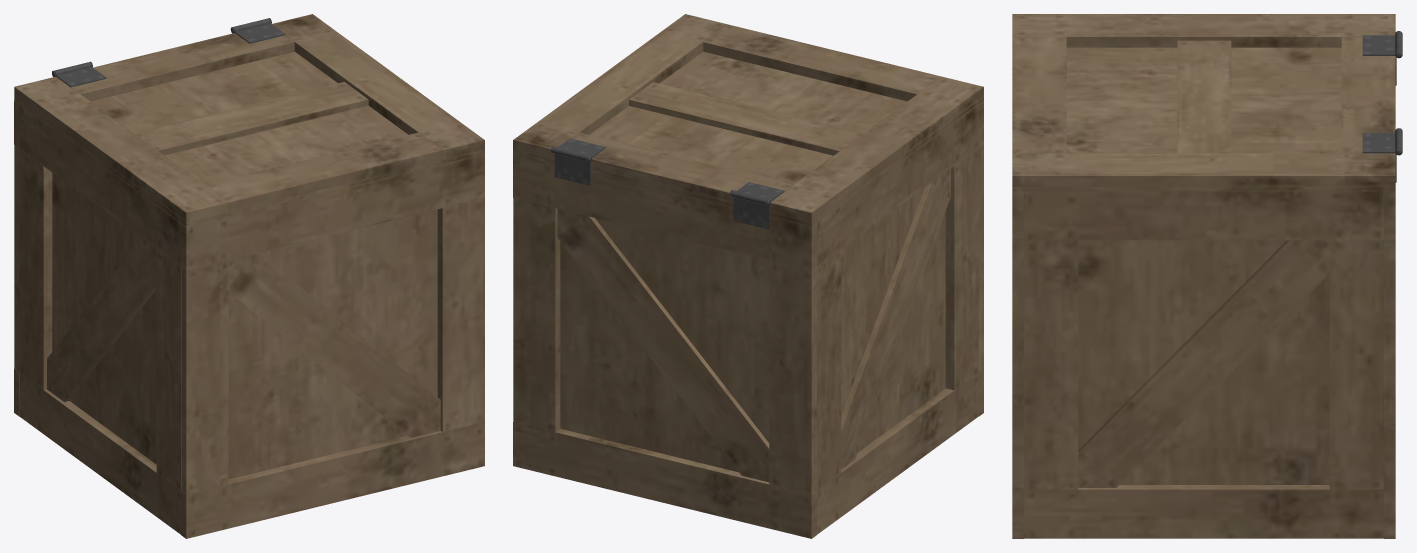
The model's file is crate.glb.
The picture shows the model from 3 angles, left to right: view 1: azimuth 30°, elevation 25°; view 2: azimuth 150°, elevation 25°; view 3: azimuth 270°, elevation 25°; orthographic projection. The views are drawn at different scales.
Parts seen in each view (by area): view 1: defaultMaterial; view 2: defaultMaterial; view 3: defaultMaterial.
Boxes of the visible parts, x1,y1,x2,y2 form: defaultMaterial: (14,14,484,538); defaultMaterial: (513,14,983,538); defaultMaterial: (1012,14,1402,538).
Bounding box in the file's own units: 0.607 × 0.6423 × 0.6174.
Materials: 1 (1 with a texture image).
